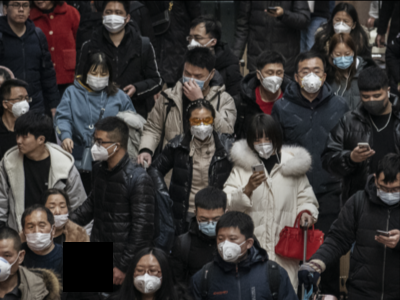mask_weared_incorrect: (46, 198, 68, 231)
with_mask: (215, 231, 245, 264), (24, 218, 52, 253), (132, 261, 160, 294), (194, 211, 223, 239), (180, 67, 207, 95), (298, 63, 322, 93), (188, 113, 213, 141), (100, 7, 125, 34), (260, 66, 285, 93), (361, 90, 388, 115), (0, 245, 17, 284), (374, 179, 399, 205), (8, 91, 30, 119), (88, 133, 110, 161), (85, 68, 109, 92), (184, 30, 209, 53), (253, 133, 275, 159), (333, 14, 351, 36)
without_mask: (14, 129, 34, 155), (7, 1, 30, 23)
